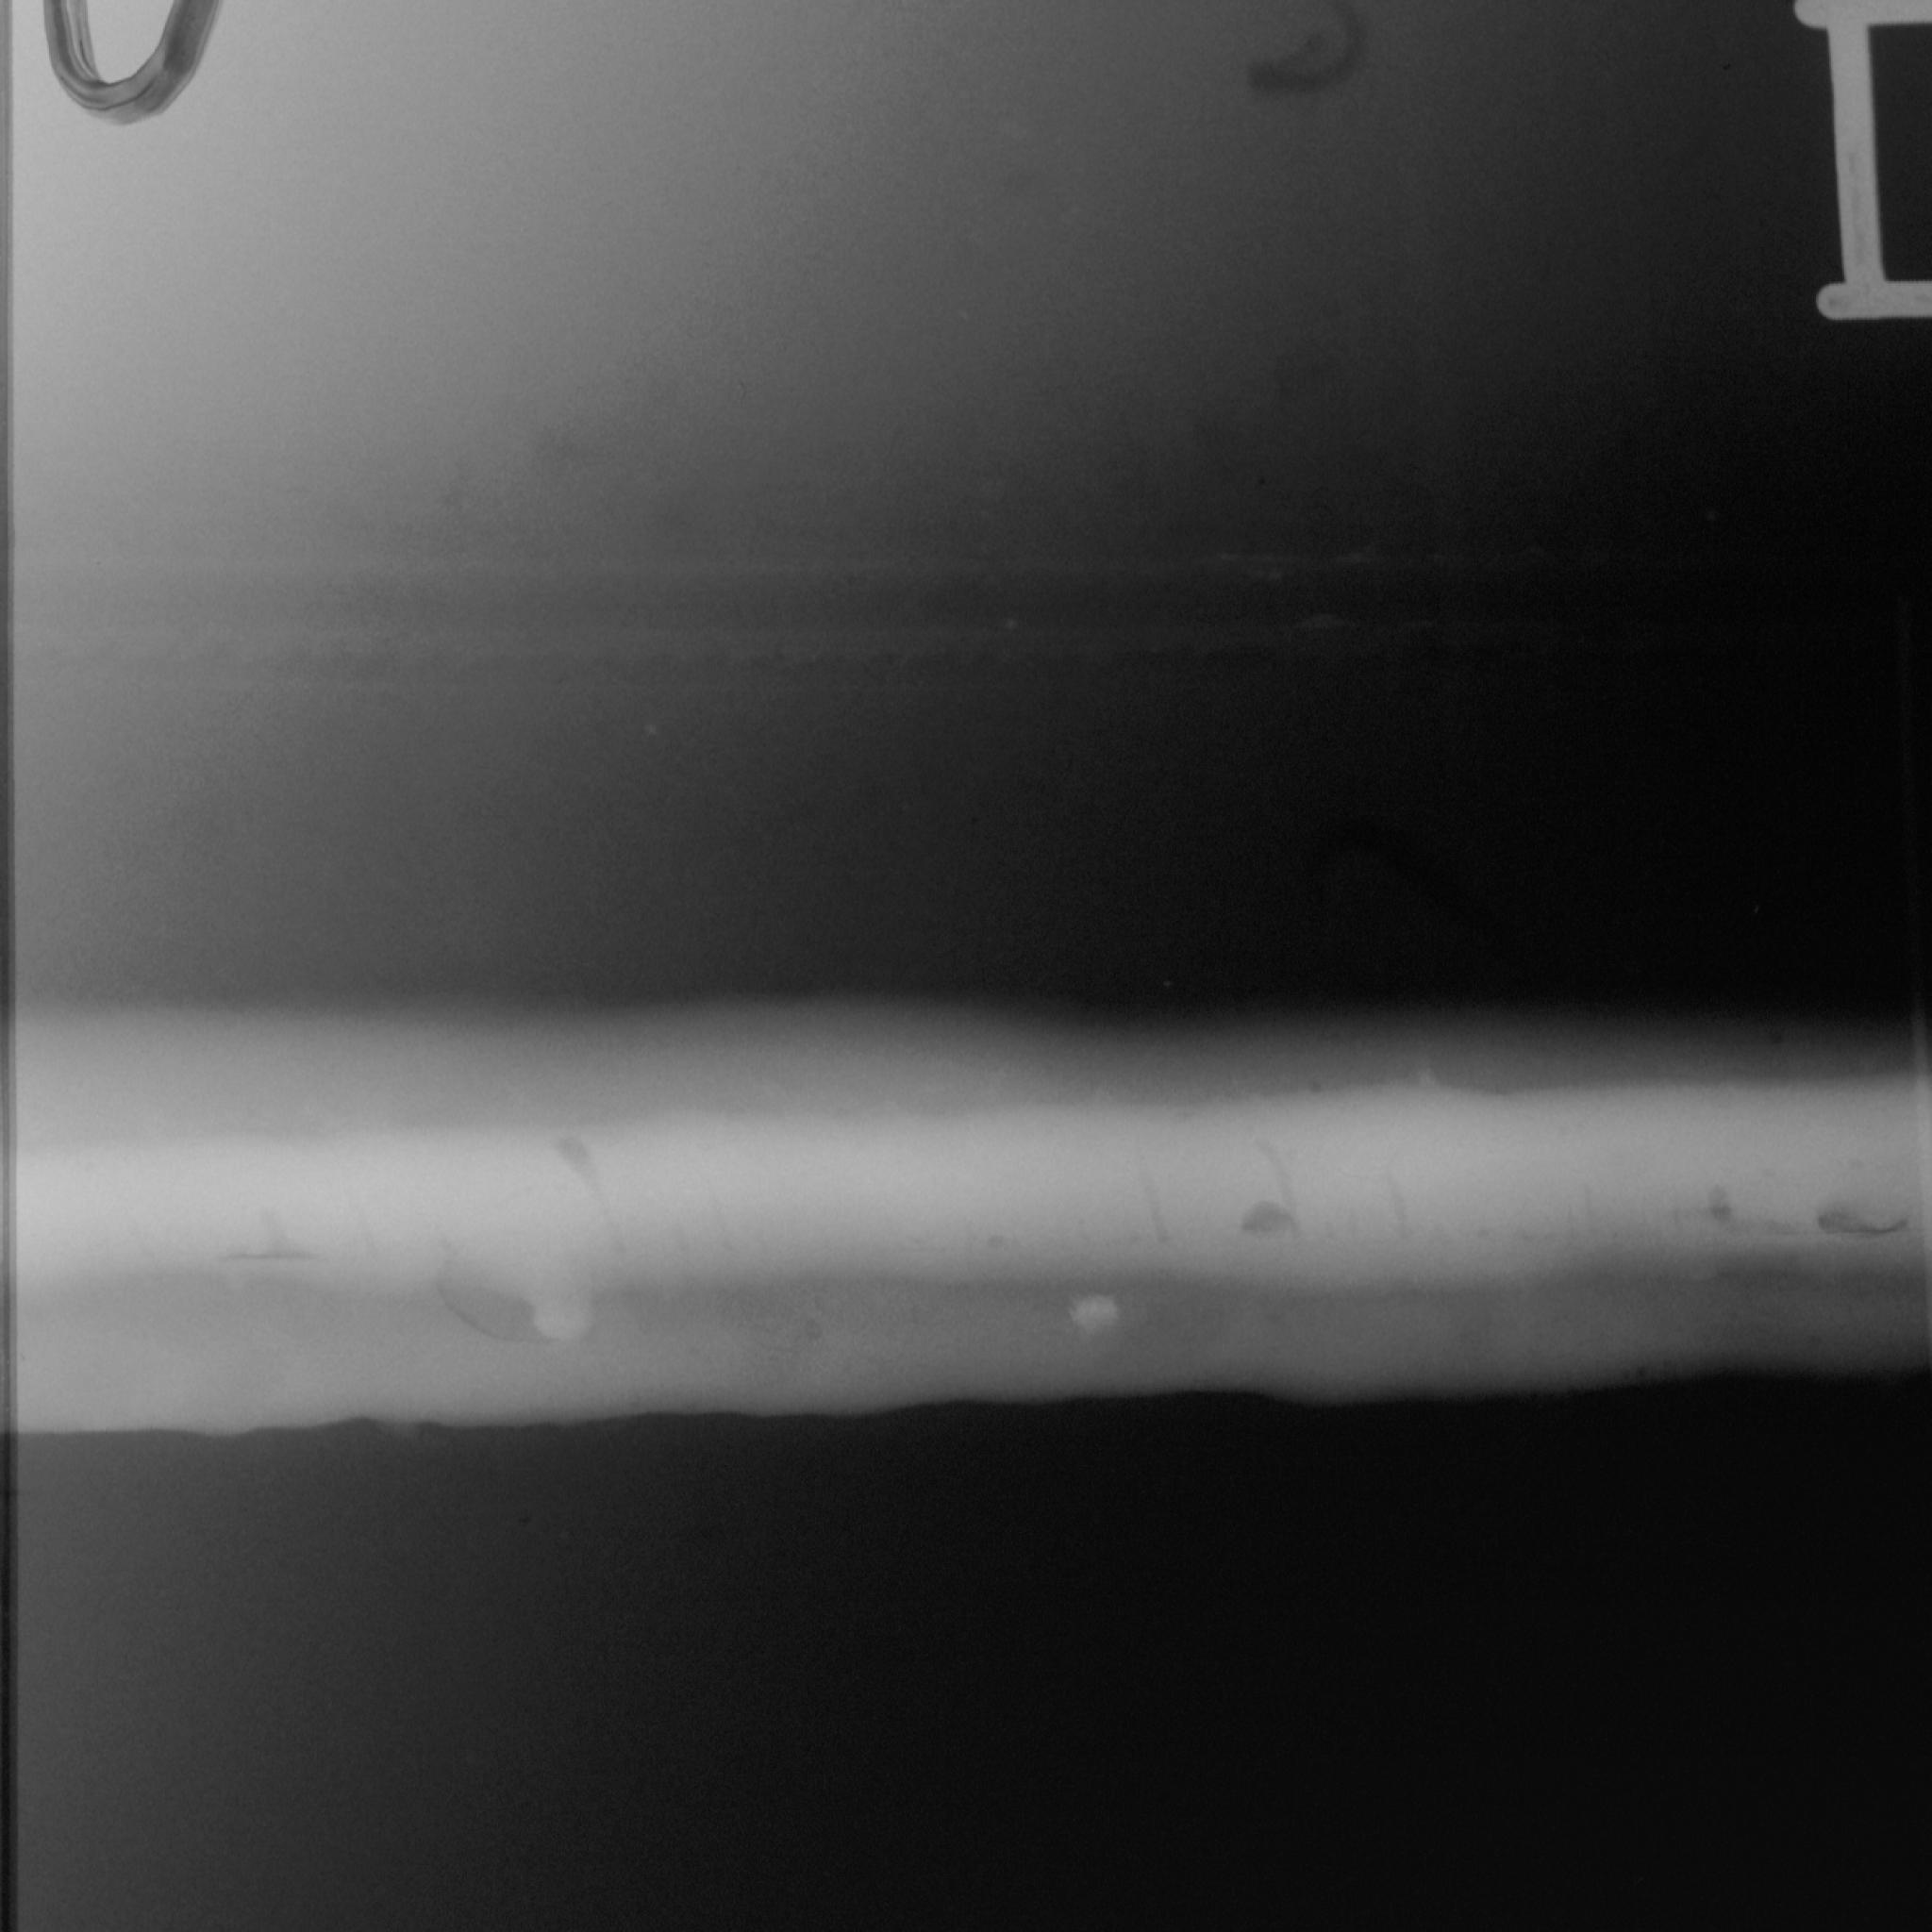FF: (11, 982, 1932, 1435)
